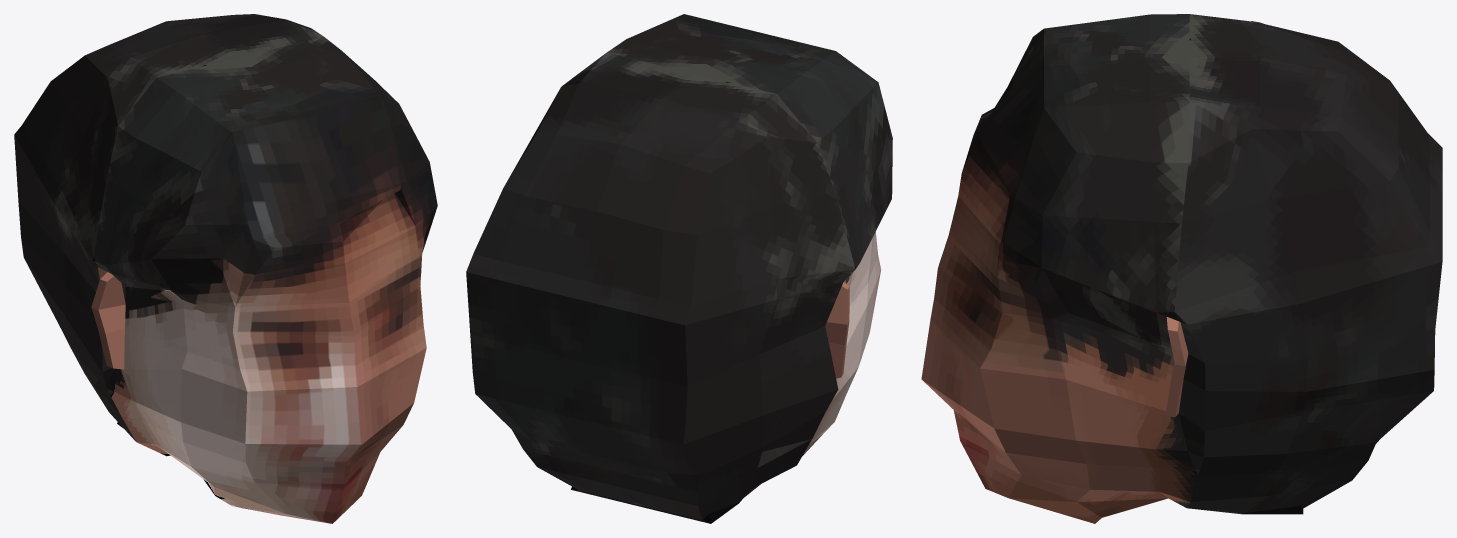
File: head_2.glb
The picture shows the model from 3 angles, left to right: view 1: azimuth 30°, elevation 25°; view 2: azimuth 150°, elevation 25°; view 3: azimuth 270°, elevation 25°; orthographic projection. The views are drawn at different scales.
Visible parts, largest first — view 1: Head.001; view 2: Head.001; view 3: Head.001.
Boxes of the visible parts, left/top/right/bottom form: Head.001: left=14, top=14, right=437, bottom=523; Head.001: left=466, top=14, right=892, bottom=523; Head.001: left=921, top=14, right=1442, bottom=523.
Bounding box in the file's own units: 2.02 × 2.7 × 2.76.
1 material, 1 textured.
